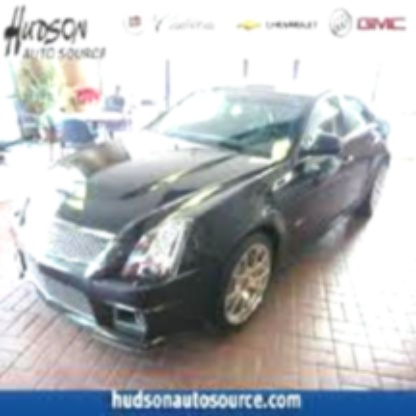Vehicle: (6, 77, 398, 362)
